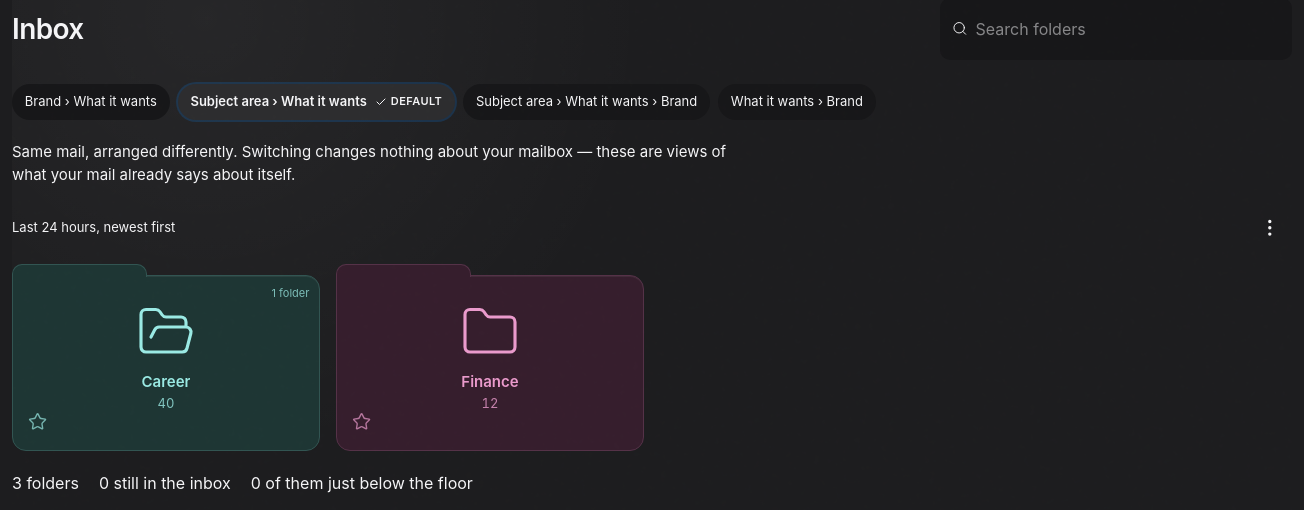
Test case: InboxPage › changes the default recent-mail window and refetches folders
The image size is (1304, 510).
Expected: the text "Career" is shown, [142,372,190,392]
# The window sits behind the three dots above the folders now, not in a box of its own.
Step 1. Click the button named "Show mail from" → (1270, 228), box [1248,206,1292,250]
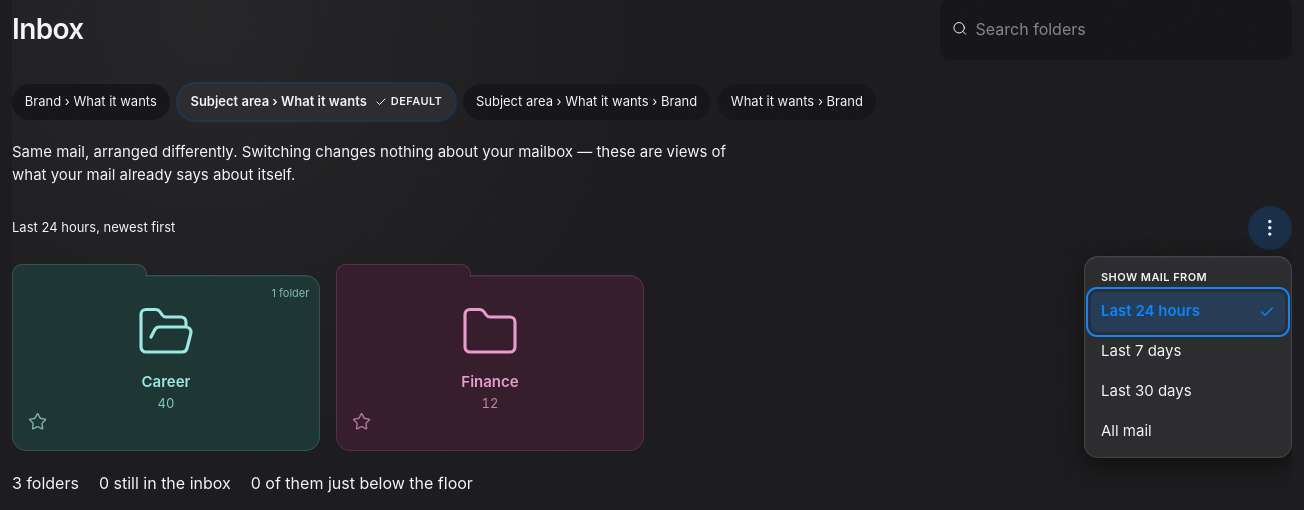
Step 2. Click the menu item "Last 7 days" → (1188, 352), box [1091,332,1285,372]
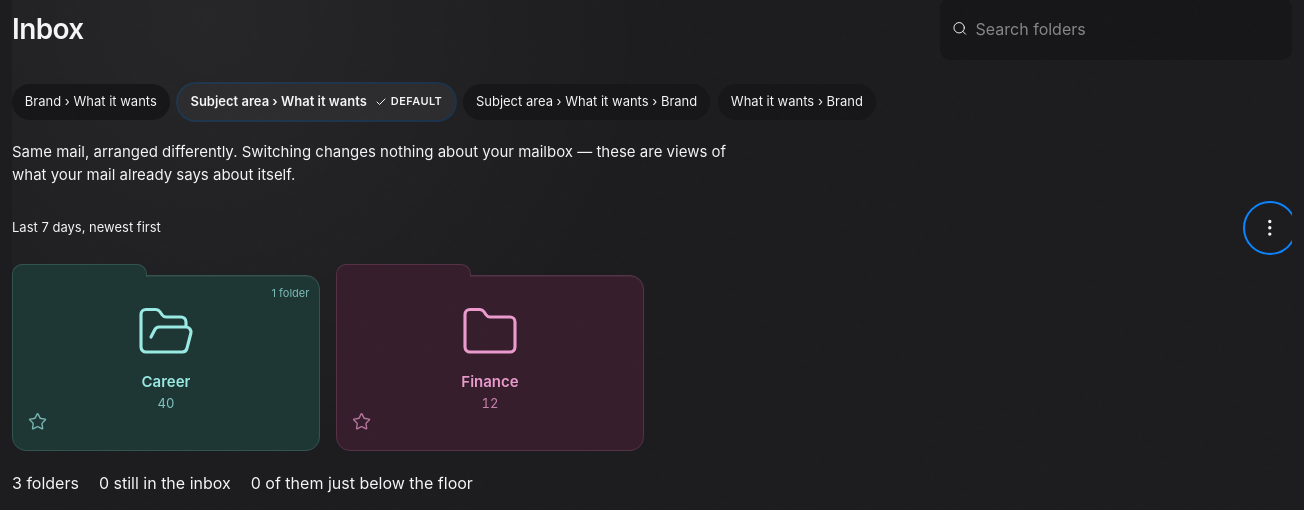
Now the menu is gone
